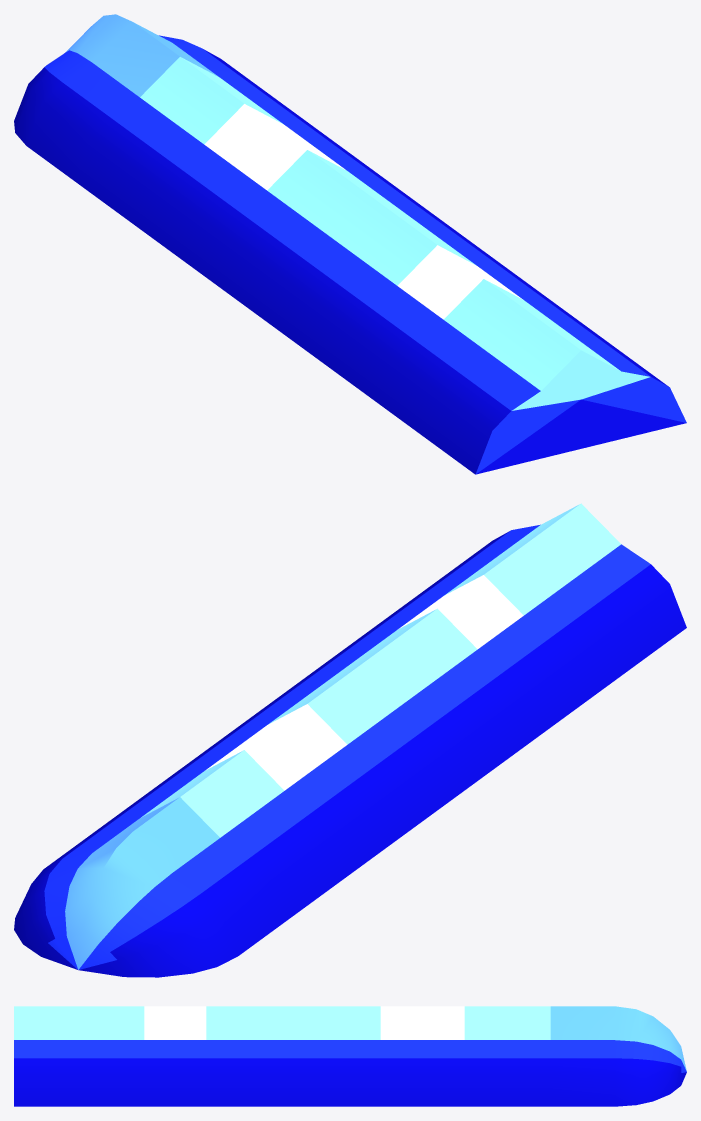
File: shot_needle_189.glb
The picture shows the model from 3 angles, top to bottom: view 1: azimuth 30°, elevation 25°; view 2: azimuth 150°, elevation 25°; view 3: azimuth 270°, elevation 25°; orthographic projection. The views are drawn at different scales.
Visible parts, largest first — view 1: shot_needle_189; view 2: shot_needle_189; view 3: shot_needle_189.
Part boxes in pixels (<box>): shot_needle_189: <box>14,14,686,474</box>; shot_needle_189: <box>14,503,686,977</box>; shot_needle_189: <box>14,1006,686,1106</box>.
Bounding box in the file's own units: 3.4 × 1.51 × 14.
